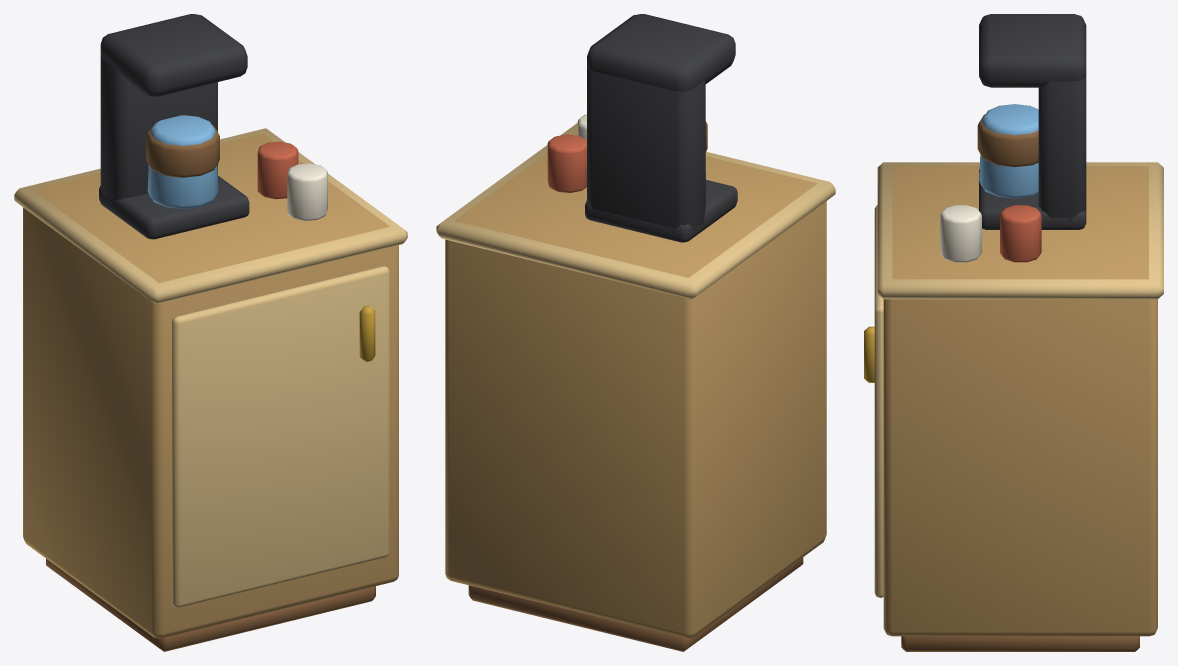
The model's file is filter_coffee.glb.
The picture shows the model from 3 angles, left to right: view 1: azimuth 30°, elevation 25°; view 2: azimuth 150°, elevation 25°; view 3: azimuth 270°, elevation 25°; orthographic projection.
Visible parts, largest first — view 1: filter_coffee; view 2: filter_coffee; view 3: filter_coffee.
Part boxes in pixels (<box>): filter_coffee: <box>14,14,407,651</box>; filter_coffee: <box>436,14,835,651</box>; filter_coffee: <box>864,14,1163,651</box>.
Bounding box in the file's own units: 0.5 × 1.02 × 0.5025.
1 material, 1 textured.
